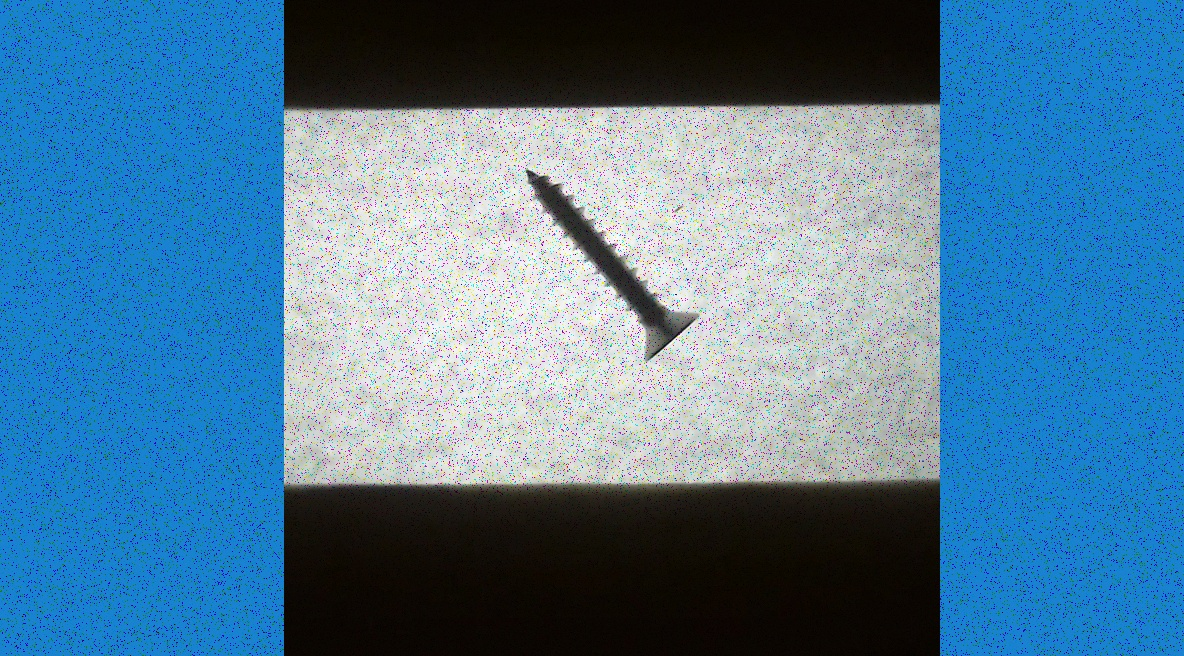S001: (516, 156, 712, 378)
